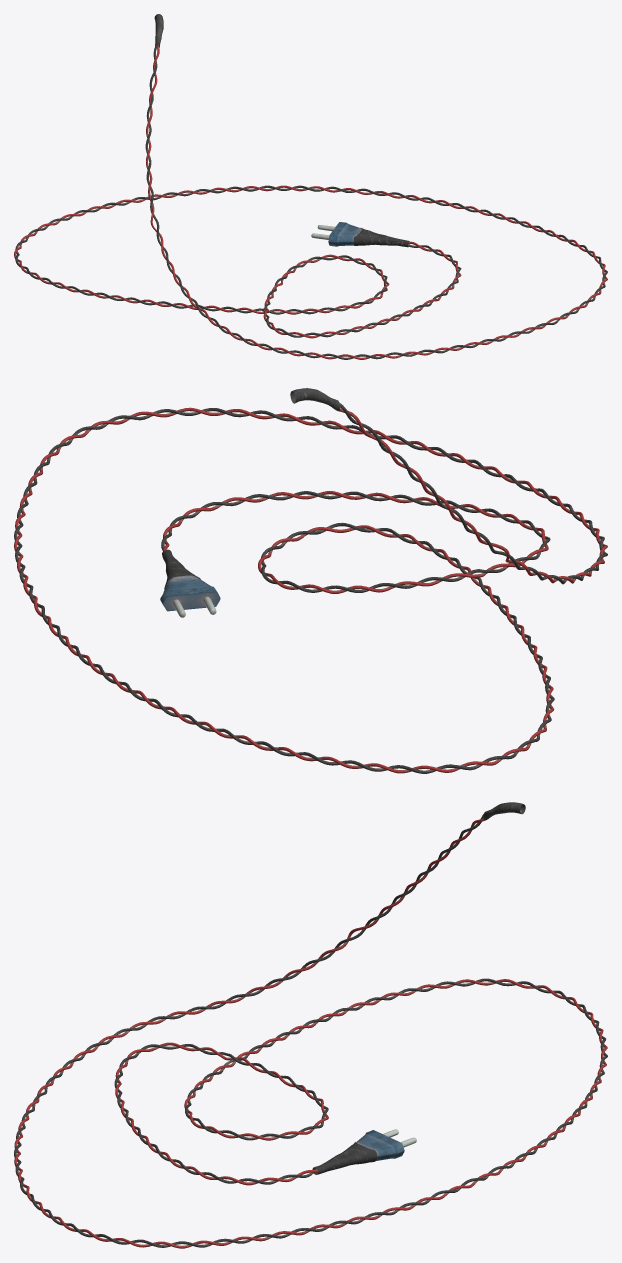
Rendered from Soldering Wire.fbx.
3 views of the same model, one above another, from view 1: azimuth 30°, elevation 25°; view 2: azimuth 150°, elevation 25°; view 3: azimuth 270°, elevation 25° (orthographic). The views are drawn at different scales.
Visible parts, largest first — view 1: wire_wire_0; view 2: wire_wire_0; view 3: wire_wire_0.
Boxes of the visible parts, x1,y1,x2,y2 form: wire_wire_0: (14,14,607,359); wire_wire_0: (14,388,607,773); wire_wire_0: (14,802,607,1248).
Bounding box in the file's own units: 4288 × 2007 × 3977.
1 material, 1 textured.
